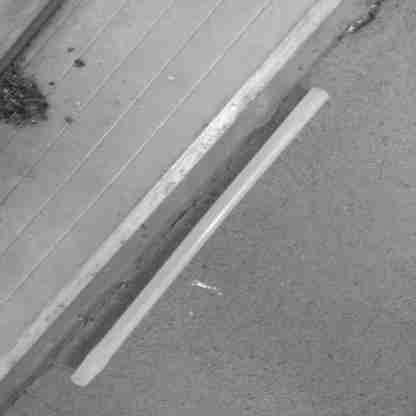plastic: (68, 84, 336, 388)
